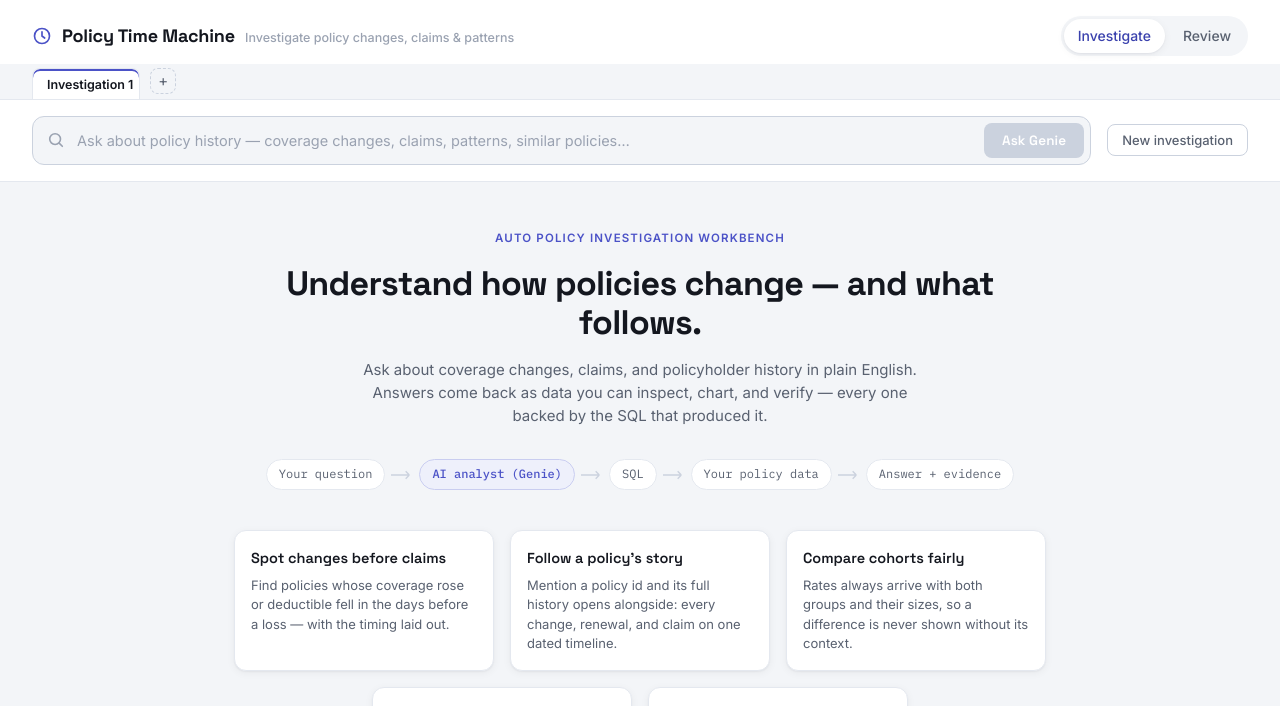
App smoke test (mock mode) › zero detected policy ids keeps the result panel full width (no timeline region content)
Replace the text in the field labelled "Ask about policy history" with "Which material changes happen most frequently before high-severity claims?" at (524, 140), box [73,124,976,157]
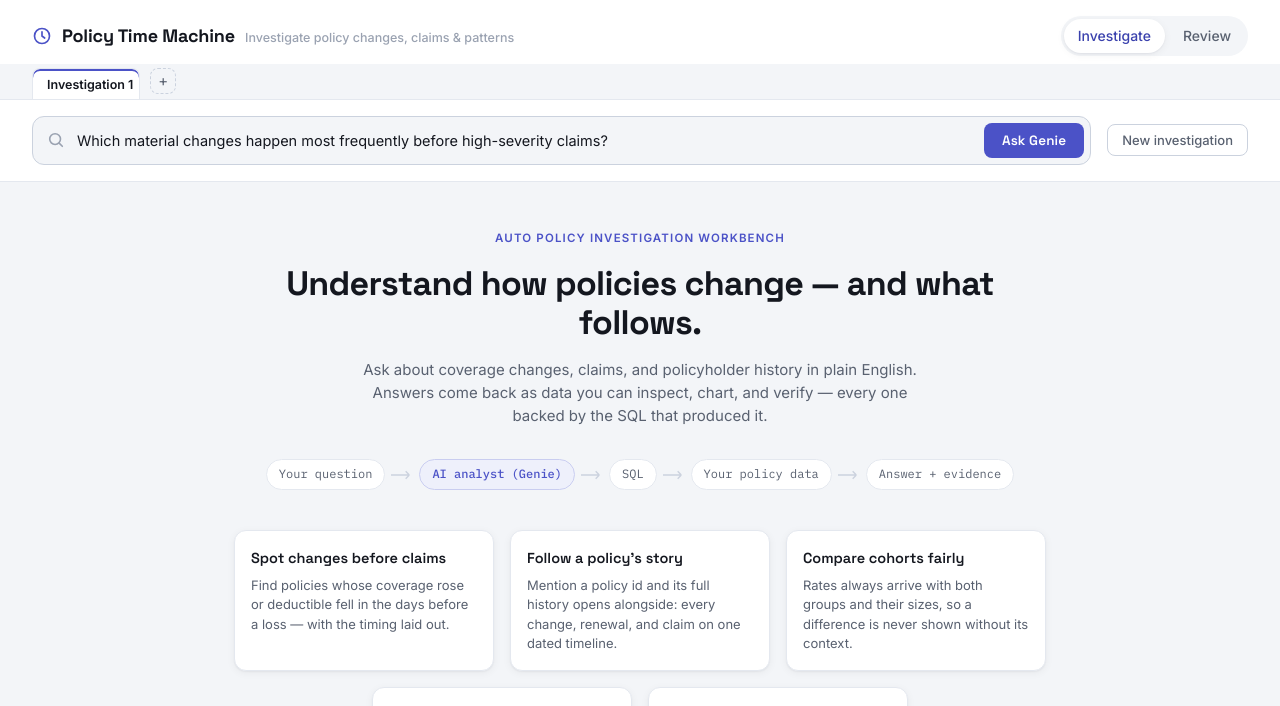
Submit the form named "Ask about policy history", box [32,116,1091,165]
(page scrolled)
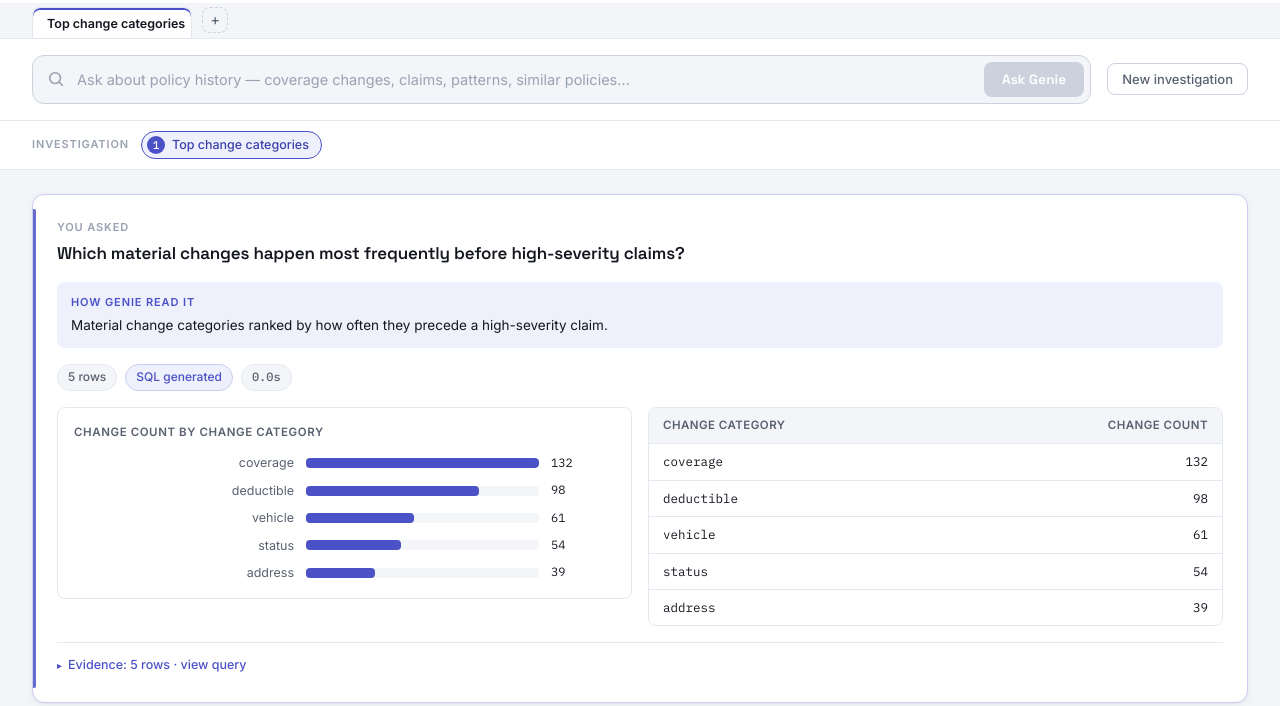
Expected: the text "5 rows" is shown, [57,364,117,391]
